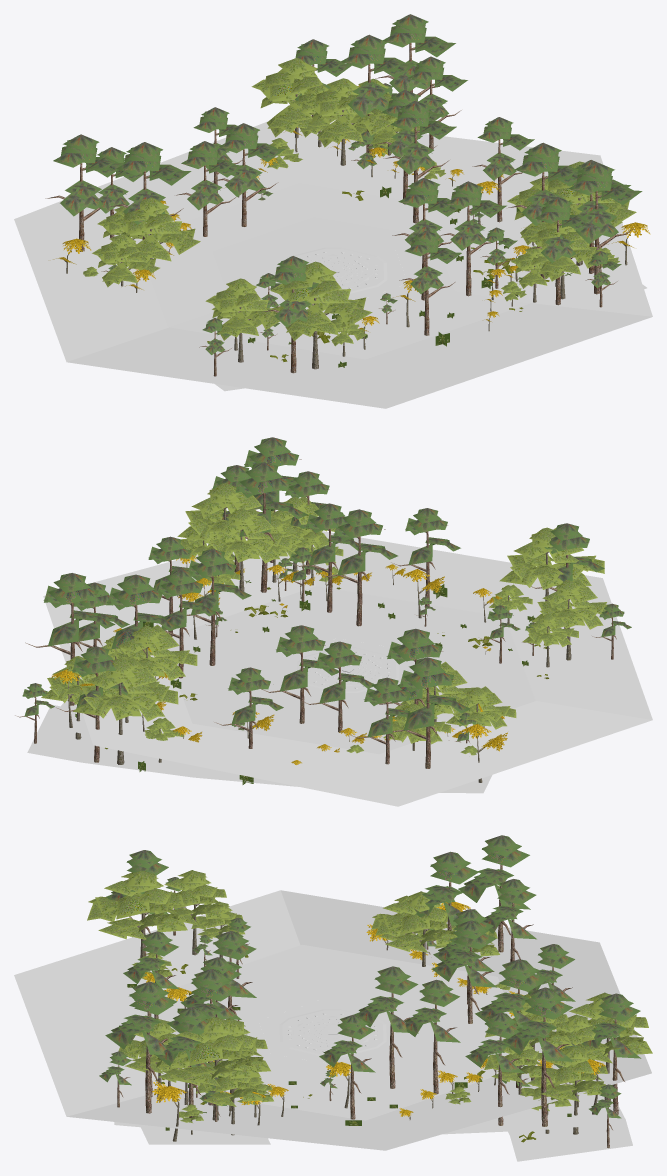
File: main_scense.fbx
The picture shows the model from 3 angles, top to bottom: view 1: azimuth 30°, elevation 25°; view 2: azimuth 150°, elevation 25°; view 3: azimuth 270°, elevation 25°; orthographic projection. The views are drawn at different scales.
Visible parts, largest first — view 1: 圆环.003, 平面.095|tree_med|Dupli|23, 平面.100|tree_med|Dupli|17, 平面.100|tree_med|Dupli|23, 平面.099|tree_med|Dupli|17, 平面.100|tree_tall|Dupli|46, 平面.095|tree_tall|Dupli|46, 平面.095|tree_med|Dupli|40, 平面.099|tree_tall|Dupli|10, 平面.021, 平面.099|tree_tall|Dupli|4, 平面.100|tree_tall|Dupli|4 (+26 smaller); view 2: 圆环.003, 平面.100, 平面.100|tree_med|Dupli|23, 平面.095|tree_med|Dupli|23, 平面.095|tree_med|Dupli|17, 平面.100|tree_tall|Dupli|46, 平面.099|tree_med|Dupli|23, 平面.099|tree_med|Dupli|17, 平面.099|tree_tall|Dupli|46, 平面.095|tree_med|Dupli|40, 平面.095|tree_tall|Dupli|4, 平面.021 (+34 smaller); view 3: 圆环.003, 平面.095|tree_med|Dupli|23, 平面.099|tree_med|Dupli|23, 平面.100, 平面.021, 平面.099, 平面.100|tree_med|Dupli|17, 平面.099|tree_tall|Dupli|46, 平面.095|tree_tall|Dupli|46, 平面.100|tree_tall|Dupli|46, 平面.100|tree_med|Dupli|40, 平面.100|tree_med|Dupli|23 (+31 smaller).
Part boxes in pixels (x1,y1,x2,y2): 圆环.003: [14, 121, 652, 408]; 平面.095|tree_med|Dupli|23: [270, 261, 372, 369]; 平面.100|tree_med|Dupli|17: [112, 197, 200, 263]; 平面.100|tree_med|Dupli|23: [251, 58, 335, 138]; 平面.099|tree_med|Dupli|17: [304, 78, 392, 165]; 平面.100|tree_tall|Dupli|46: [45, 134, 124, 251]; 平面.095|tree_tall|Dupli|46: [568, 162, 642, 294]; 平面.095|tree_med|Dupli|40: [205, 278, 280, 362]; 平面.099|tree_tall|Dupli|10: [341, 34, 415, 153]; 平面.021: [280, 247, 387, 293]; 平面.099|tree_tall|Dupli|4: [383, 100, 456, 223]; 平面.100|tree_tall|Dupli|4: [212, 123, 284, 226]; 圆环.003: [43, 531, 652, 806]; 平面.100: [27, 705, 492, 793]; 平面.100|tree_med|Dupli|23: [73, 656, 178, 764]; 平面.095|tree_med|Dupli|23: [499, 527, 604, 628]; 平面.095|tree_med|Dupli|17: [200, 508, 291, 591]; 平面.100|tree_tall|Dupli|46: [392, 657, 470, 768]; 平面.099|tree_med|Dupli|23: [177, 483, 282, 543]; 平面.099|tree_med|Dupli|17: [114, 624, 197, 680]; 平面.099|tree_tall|Dupli|46: [25, 573, 115, 705]; 平面.095|tree_med|Dupli|40: [531, 579, 607, 660]; 平面.095|tree_tall|Dupli|4: [317, 509, 397, 626]; 平面.021: [297, 647, 399, 692]; 圆环.003: [14, 890, 651, 1150]; 平面.095|tree_med|Dupli|23: [87, 870, 187, 961]; 平面.099|tree_med|Dupli|23: [160, 1017, 260, 1120]; 平面.100: [508, 1096, 632, 1161]; 平面.021: [279, 1009, 386, 1056]; 平面.099: [114, 1093, 602, 1134]; 平面.100|tree_med|Dupli|17: [375, 891, 457, 966]; 平面.099|tree_tall|Dupli|46: [502, 987, 573, 1126]; 平面.095|tree_tall|Dupli|46: [105, 981, 177, 1113]; 平面.100|tree_tall|Dupli|46: [458, 835, 530, 952]; 平面.100|tree_med|Dupli|40: [532, 1046, 607, 1134]; 平面.100|tree_med|Dupli|23: [556, 992, 652, 1100].
Bounding box in the file's own units: 9753 × 2548 × 9214.
